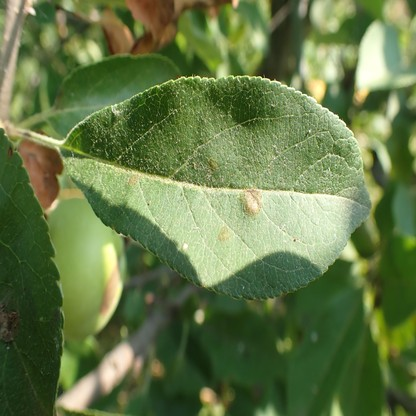scab: (0, 303, 19, 343), (240, 189, 262, 218), (219, 226, 231, 241), (208, 157, 217, 171), (129, 174, 139, 185)
